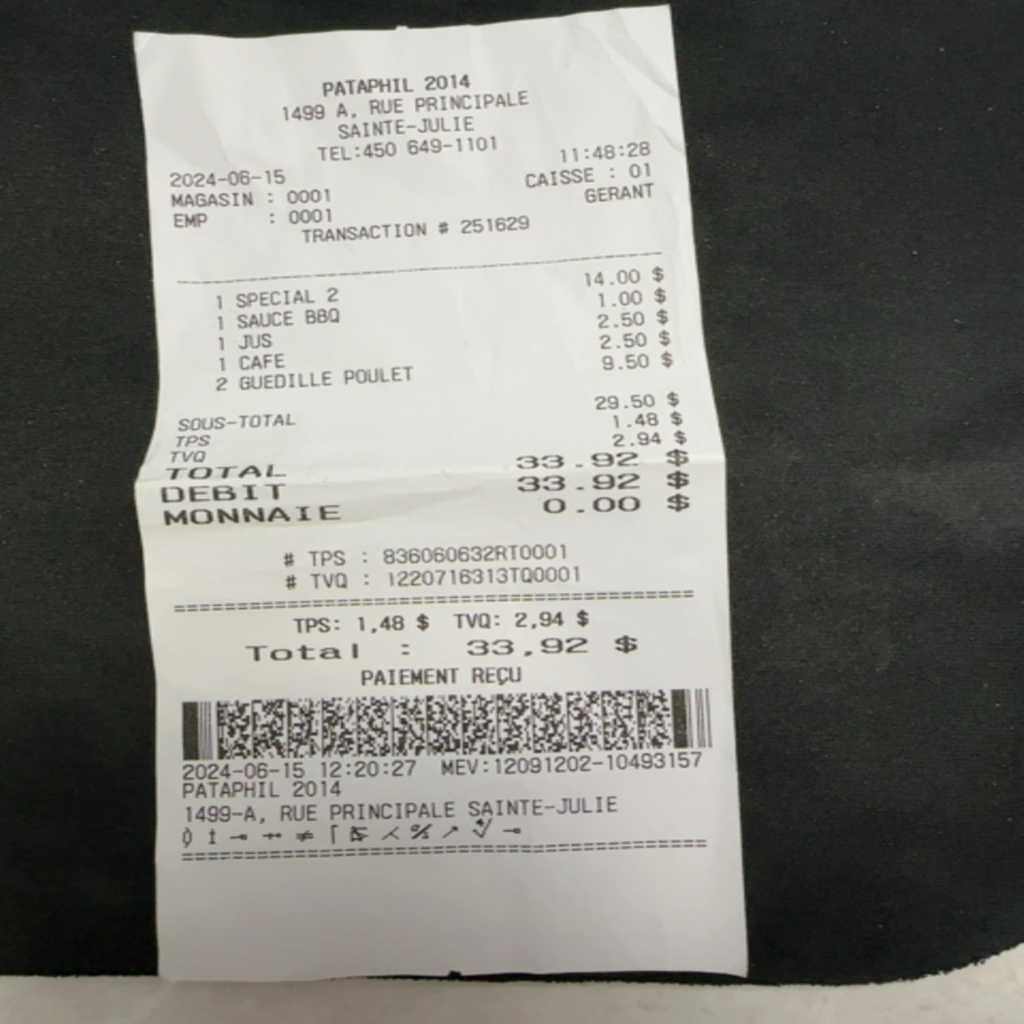recipt: (130, 6, 751, 982)
